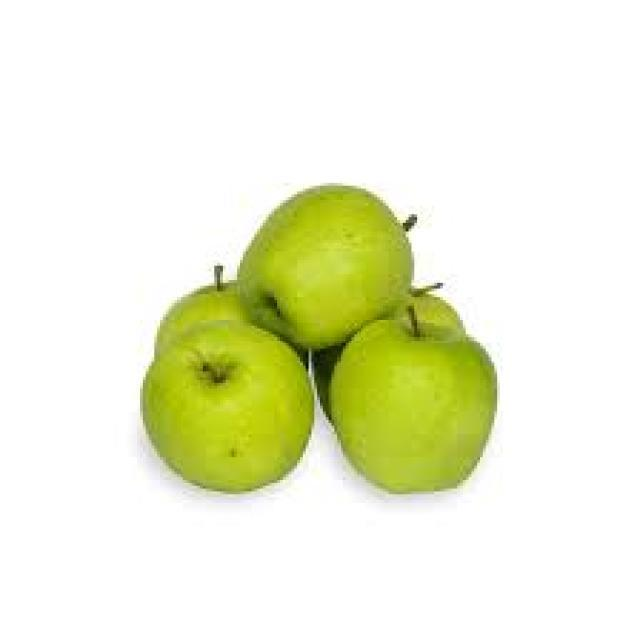apple: (237, 184, 413, 350), (142, 321, 313, 490), (330, 320, 496, 493), (156, 283, 249, 348)
